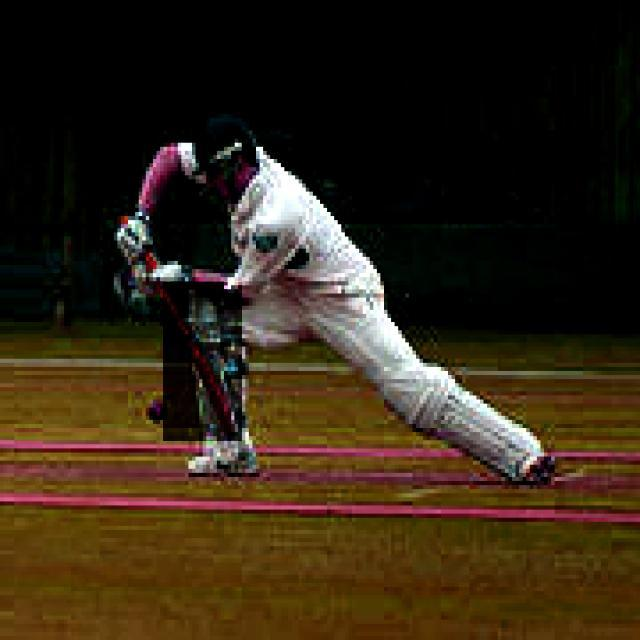bat: (165, 276, 243, 440)
